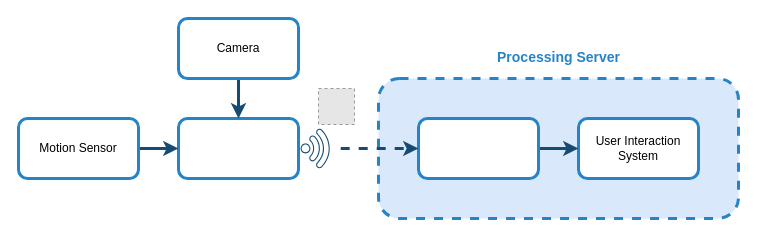
Some shapes in this 757 by 237 pixel diagram are drawn without their labels. Grey dashed boxes stand in for pictures. Here are the shapes that lost their labels. From the top down, the box of each, then its label:
(176, 116, 300, 180): FPGA
(416, 116, 540, 180): Fall Classification
